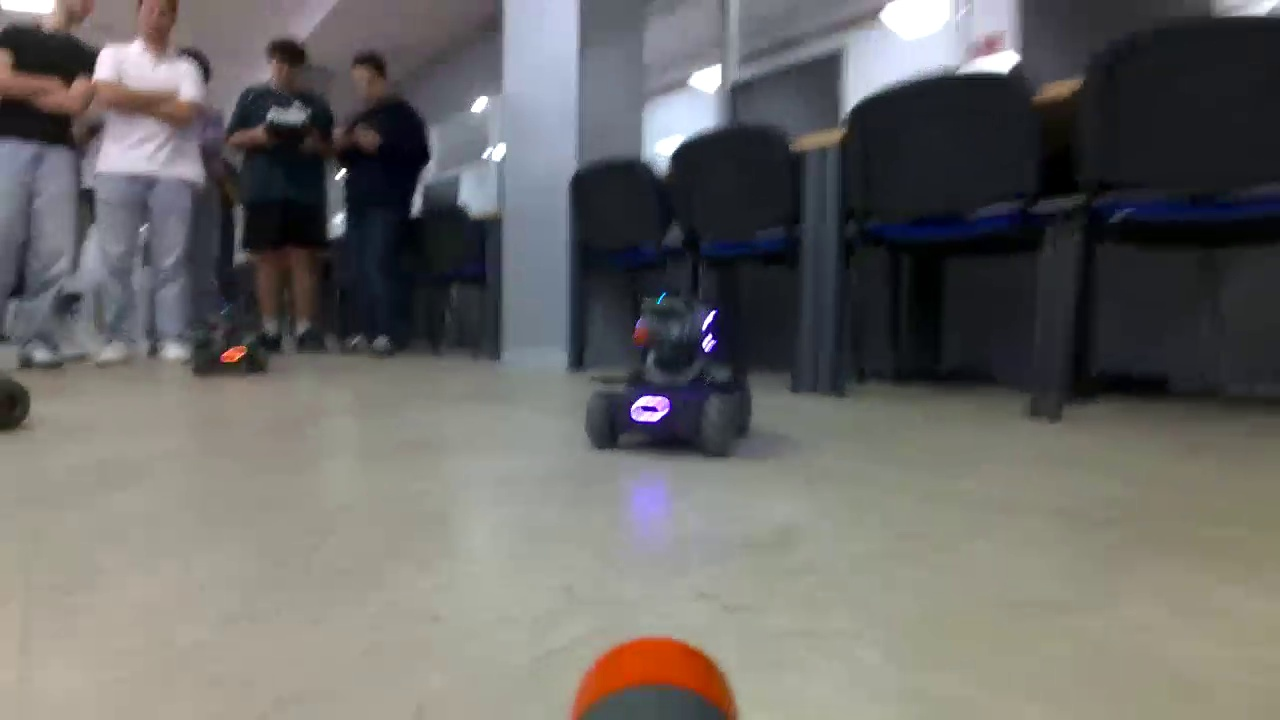robot: (585, 295, 752, 455), (190, 325, 270, 375), (1, 360, 32, 435)
